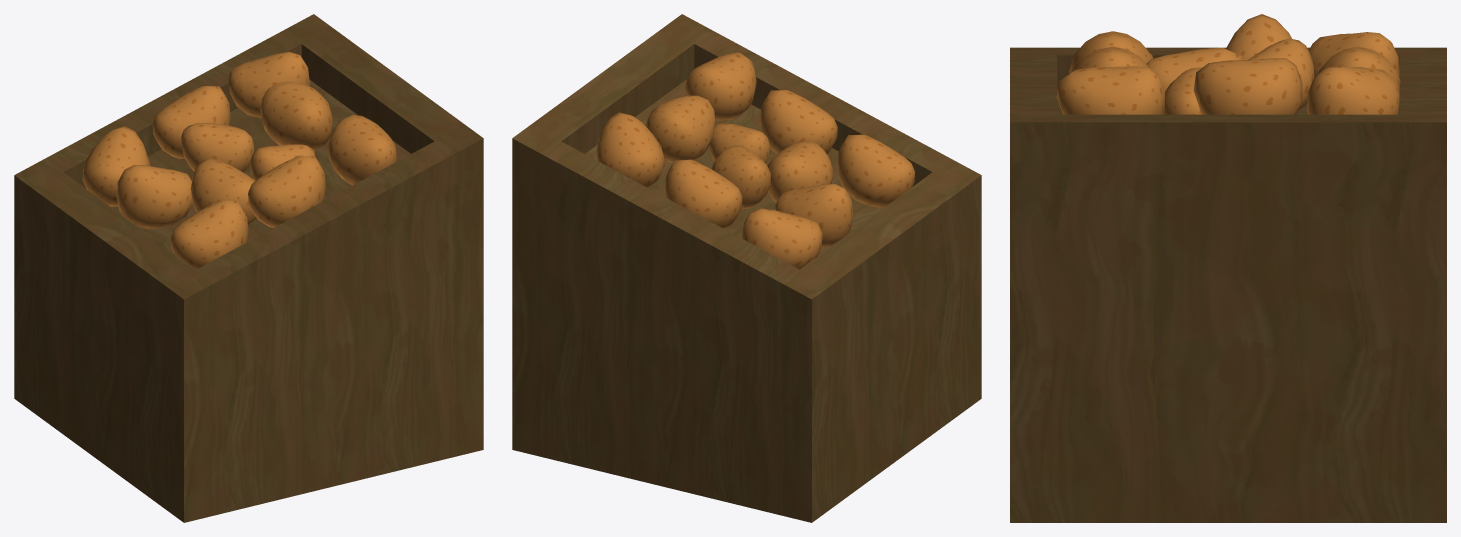
The model's file is PAPA_SPAWNER.fbx.
3 renders of one model, left to right at view 1: azimuth 30°, elevation 25°; view 2: azimuth 150°, elevation 25°; view 3: azimuth 270°, elevation 25°, orthographic. The views are drawn at different scales.
Visible parts, largest first — view 1: PAPA_SPAWNER_PRP; view 2: PAPA_SPAWNER_PRP; view 3: PAPA_SPAWNER_PRP.
Boxes of the visible parts, left/top/right/bottom form: PAPA_SPAWNER_PRP: left=14, top=14, right=483, bottom=522; PAPA_SPAWNER_PRP: left=512, top=14, right=981, bottom=522; PAPA_SPAWNER_PRP: left=1010, top=14, right=1446, bottom=522.
Size of the model in its own units: 47.33 by 48.35 by 46.47.
Materials: 2 (2 with a texture image).
